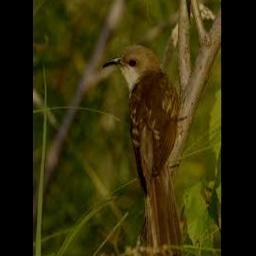Cuckoo: (103, 44, 187, 256)
